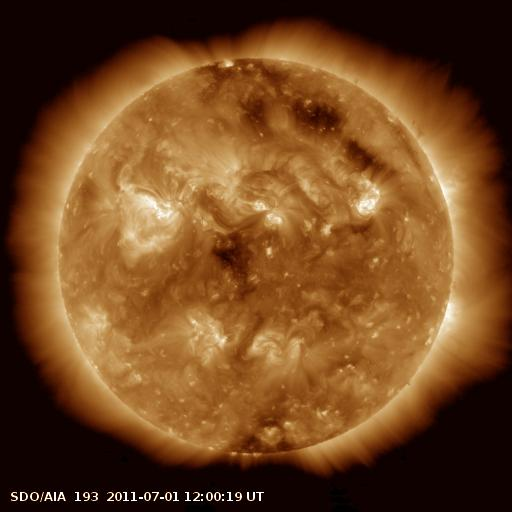coronal_hole: (281, 87, 378, 169), (195, 55, 291, 106), (221, 416, 297, 460), (205, 229, 260, 280)
